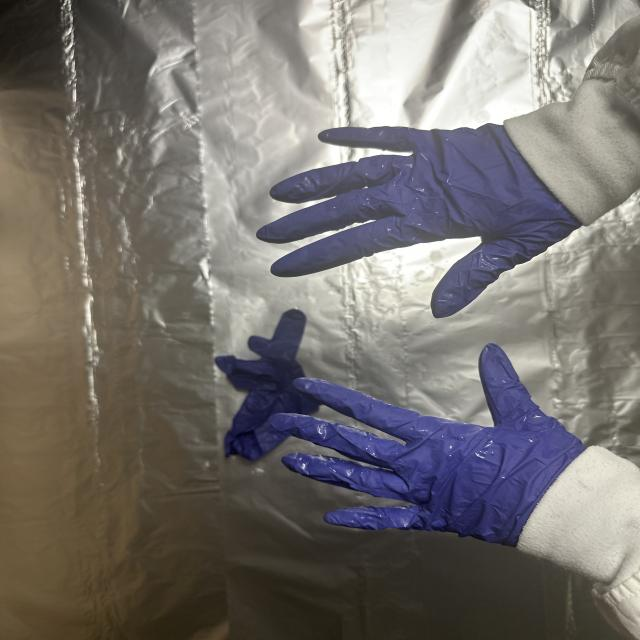gloves_contaminated: (271, 345, 584, 546), (259, 125, 580, 318)
